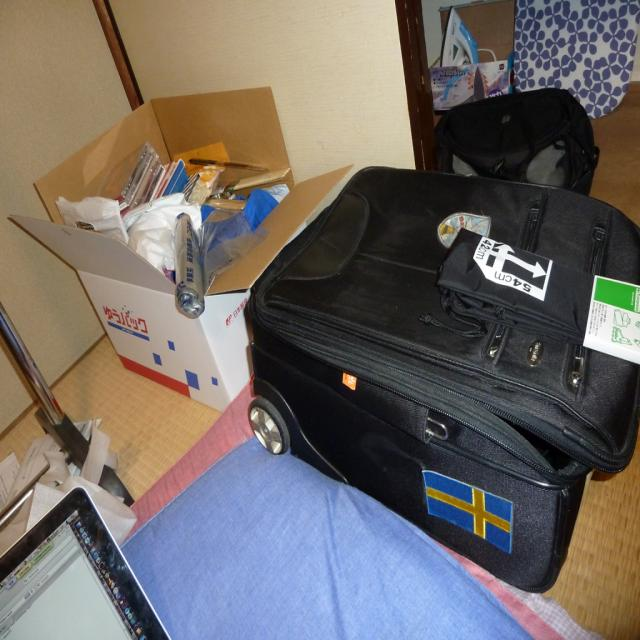Box: (11, 90, 352, 412), (431, 0, 521, 111)
